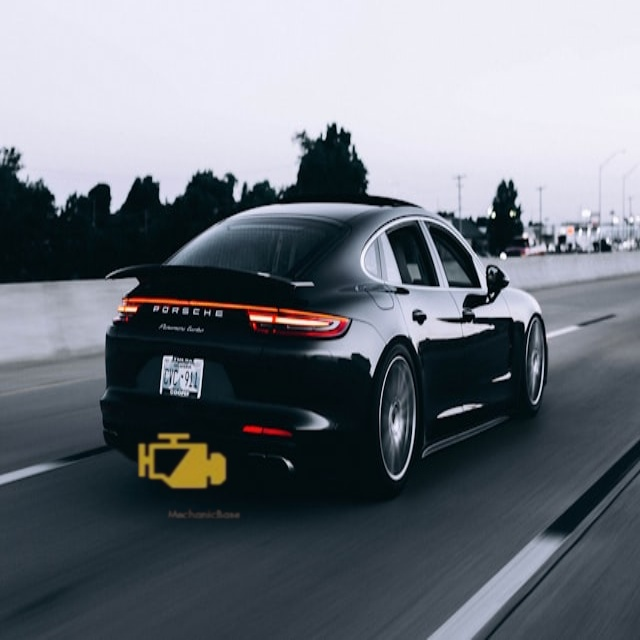symbol: (118, 398, 245, 525)
